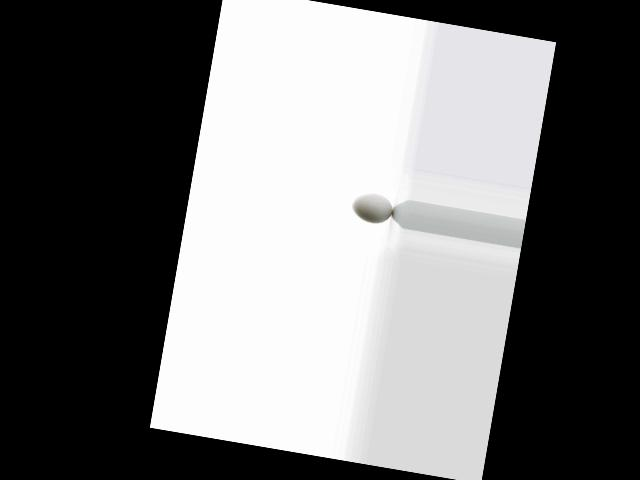egg: (350, 191, 394, 225)
